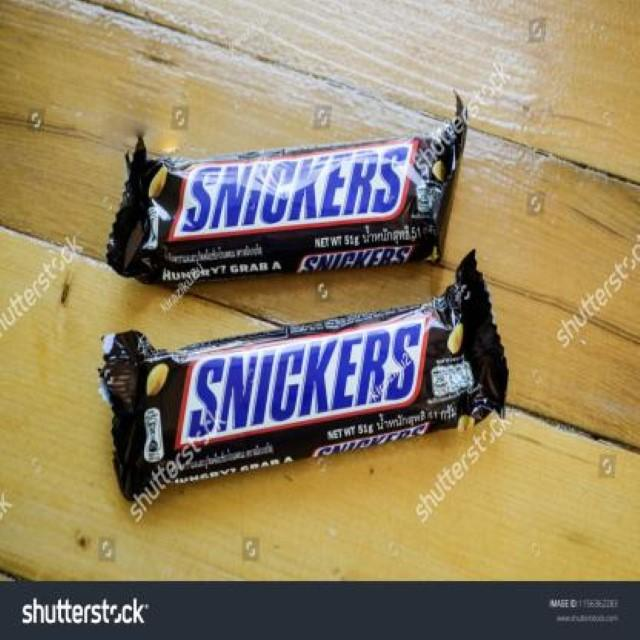snickers_chocolate: (123, 280, 507, 508), (130, 147, 465, 275)
